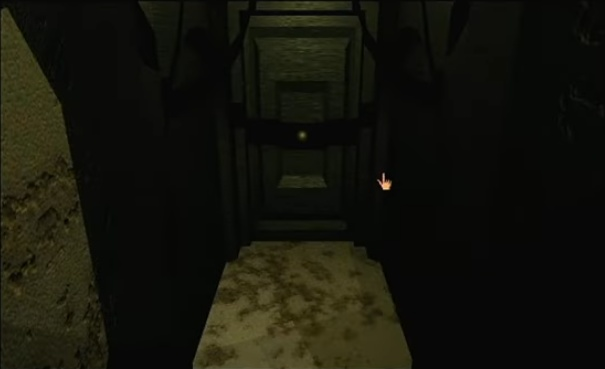Pointer: (373, 167, 396, 193)
